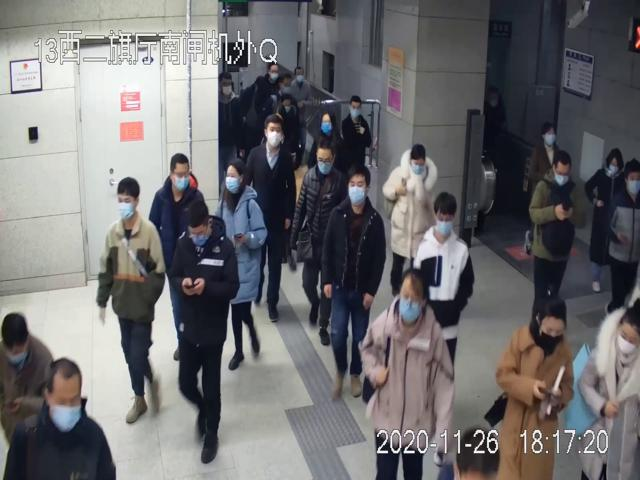person: (359, 269, 457, 476), (168, 198, 240, 463), (96, 178, 166, 422), (416, 192, 476, 462), (320, 164, 386, 396), (496, 291, 576, 480), (149, 152, 211, 362), (215, 157, 269, 369), (293, 140, 348, 347), (245, 115, 296, 324), (528, 148, 587, 325), (383, 144, 440, 299), (583, 148, 626, 292)
